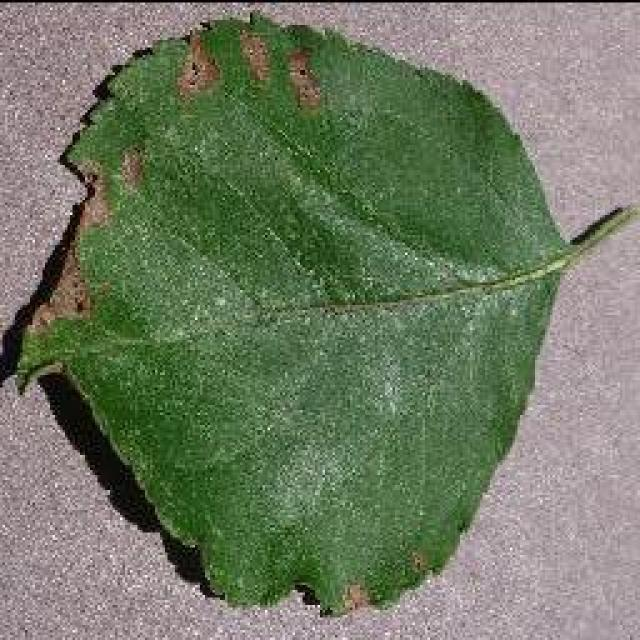Black_rot: (10, 10, 638, 618)
